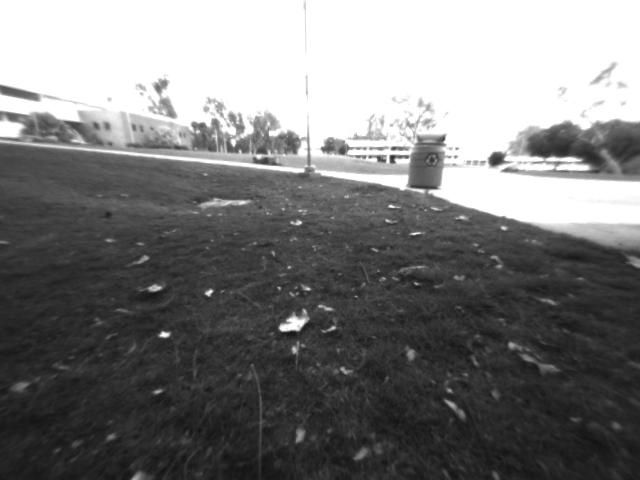trashcan: (401, 125, 452, 200)
